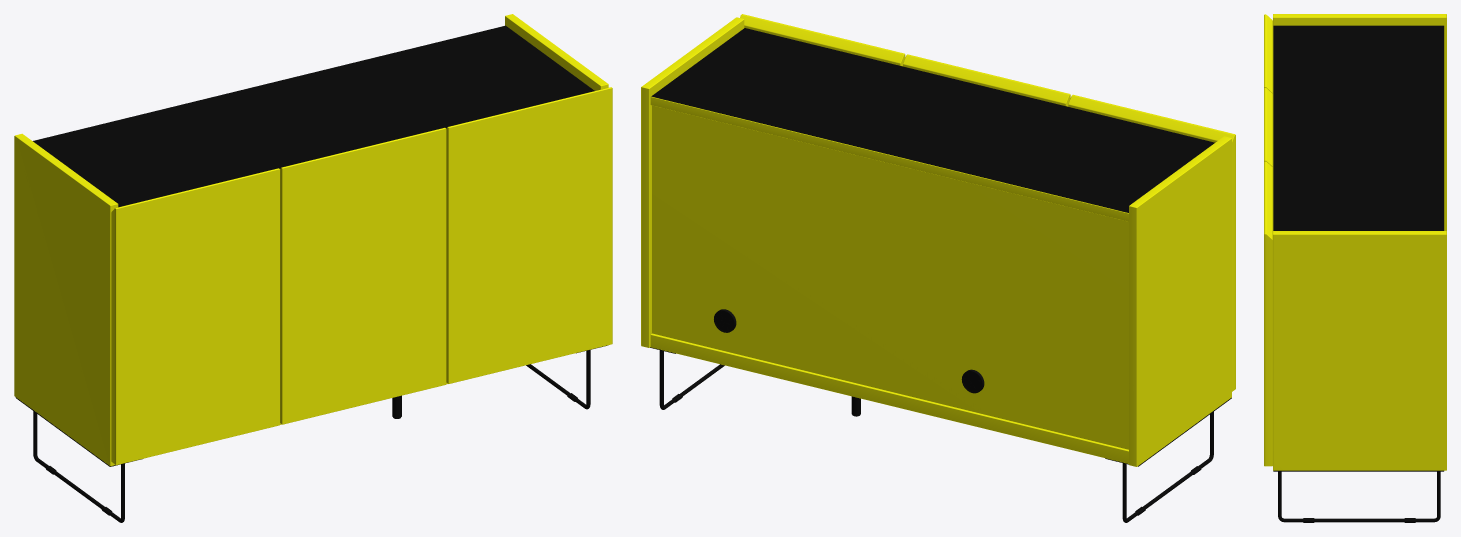
3 renders of one model, left to right at view 1: azimuth 30°, elevation 25°; view 2: azimuth 150°, elevation 25°; view 3: azimuth 270°, elevation 25°, orthographic. The views are drawn at different scales.
Visible parts, largest first — view 1: wood.011, metal.011; view 2: wood.011, metal.011, plastic.011; view 3: wood.011, metal.011, metal.010.
Part boxes in pixels (<box>): wood.011: <box>14,14,612,466</box>; metal.011: <box>33,350,590,522</box>; wood.011: <box>641,14,1235,466</box>; metal.011: <box>659,350,1213,522</box>; plastic.011: <box>714,309,984,393</box>; wood.011: <box>1264,14,1446,470</box>; metal.011: <box>1278,471,1440,522</box>; metal.010: <box>1273,470,1443,471</box>.
Size of the model in its own units: 1.2 by 0.75 by 0.42.
Materials: 5 (3 with a texture image).
